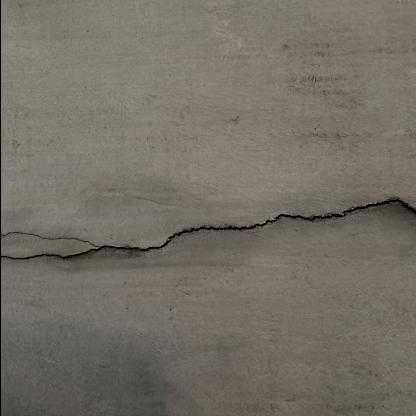crack: (0, 200, 416, 260)
